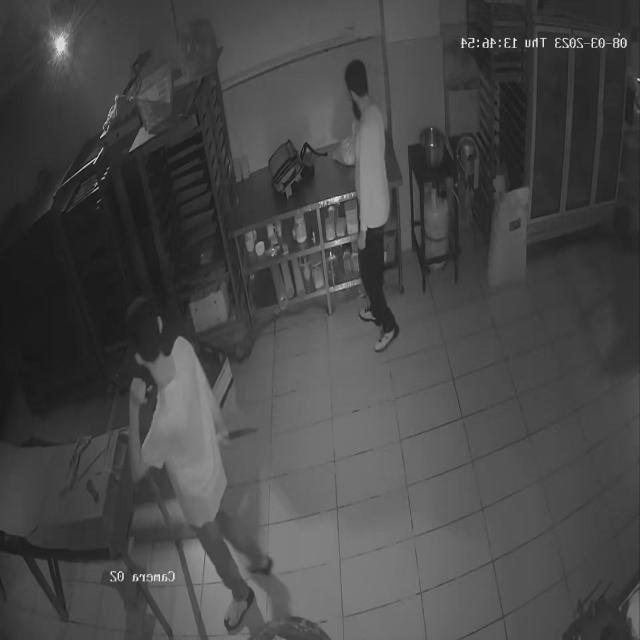Knife: (222, 417, 264, 449)
